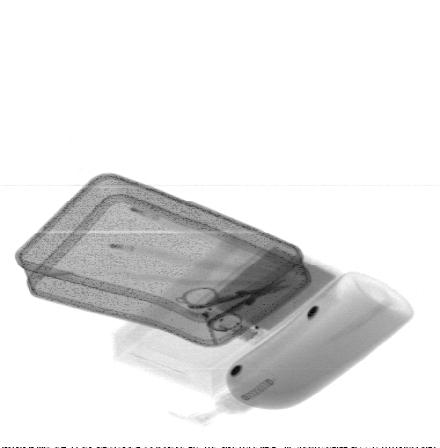Powerbank: (187, 238, 347, 348)
Scissors: (181, 278, 294, 332)
